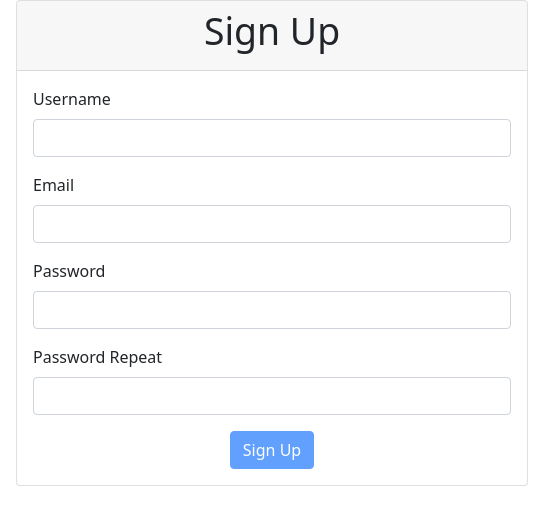
Test: Sign Up page › Interactions › displays Password cannot be null for password
Type "Rind" into the field labelled "Username" at (272, 138), box [33,119,511,157]
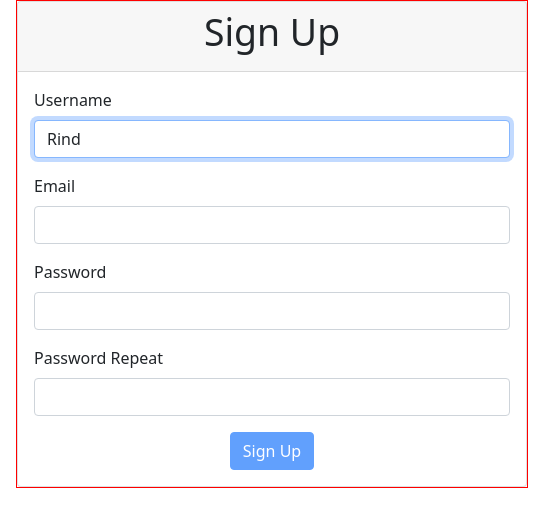
Type "test@mail.io" into the field labelled "Email" at (272, 225), box [34,206,510,244]
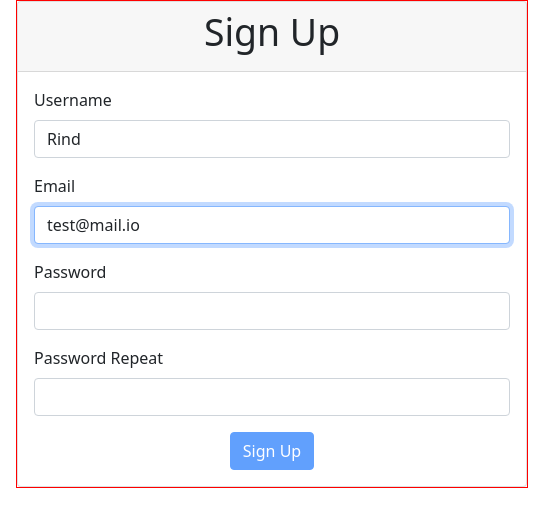
Type "pass123" into the password field labelled "Password" at (272, 311), box [34,292,510,330]
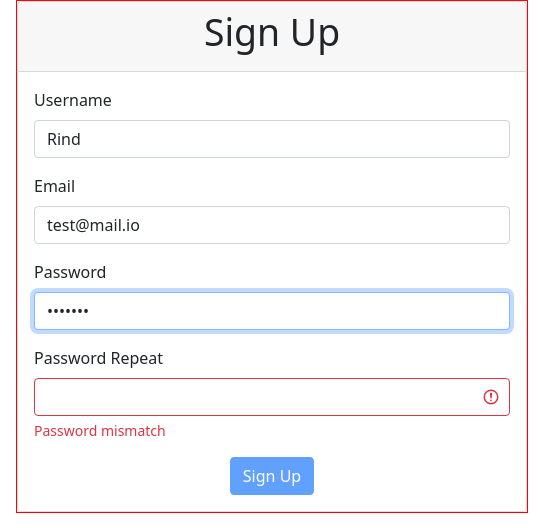
Type "pass123" into the password field labelled "Password Repeat" at (272, 397), box [34,378,510,416]
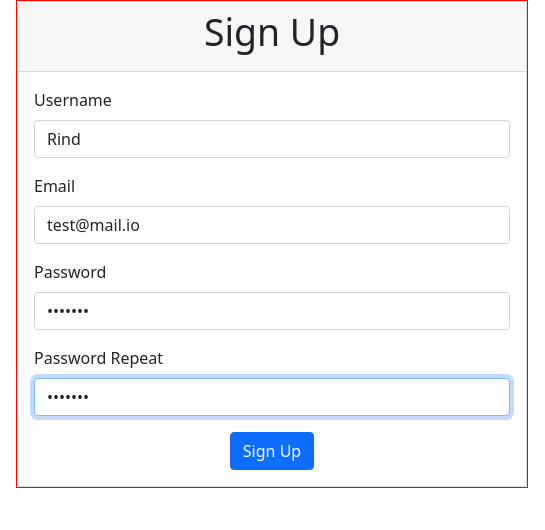
Click the button "Sign Up" at (272, 451), box [230,432,314,470]
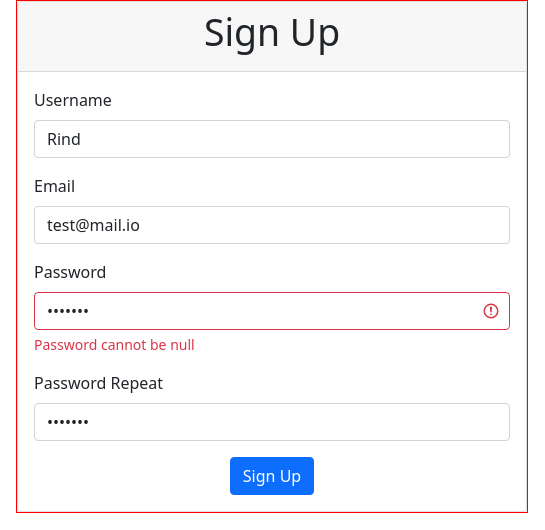
Now the text "Password cannot be null" is shown, box [34,335,195,354]
